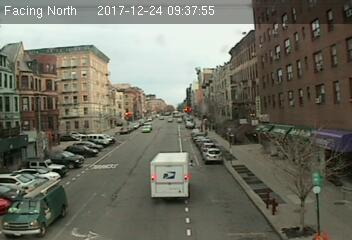car: (203, 146, 223, 164)
truck: (1, 176, 70, 237), (150, 151, 193, 199)
